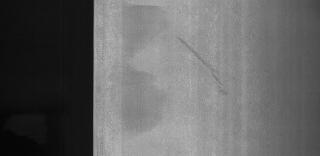water spot: (174, 34, 240, 100)
